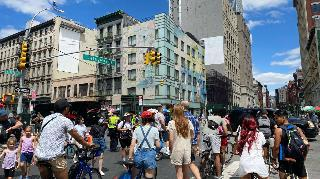person - v3 P: (35, 99, 94, 178), (128, 111, 161, 178), (233, 117, 269, 178), (202, 116, 227, 178), (181, 101, 200, 178), (90, 114, 106, 175), (0, 110, 22, 153), (18, 126, 36, 178), (256, 109, 277, 149), (273, 128, 289, 178), (0, 138, 20, 178), (118, 113, 133, 161), (155, 107, 169, 154), (215, 108, 234, 136), (108, 111, 120, 151), (75, 116, 87, 139), (33, 114, 43, 135), (130, 110, 140, 130), (312, 113, 318, 123), (201, 113, 205, 125), (19, 127, 24, 136), (34, 133, 38, 144)
